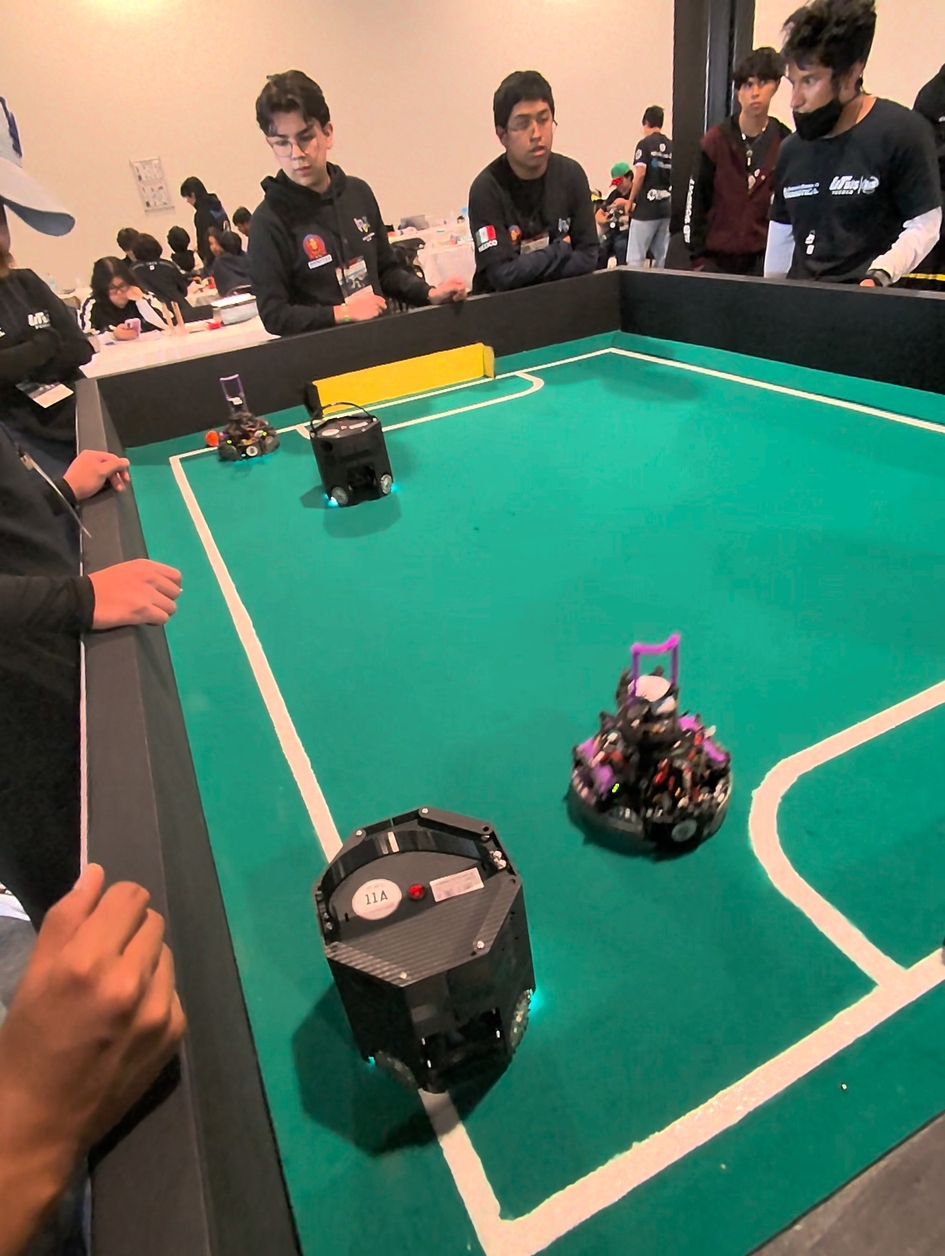Robot: (294, 788, 548, 1106), (570, 664, 739, 871), (297, 372, 404, 539), (207, 371, 280, 470)
